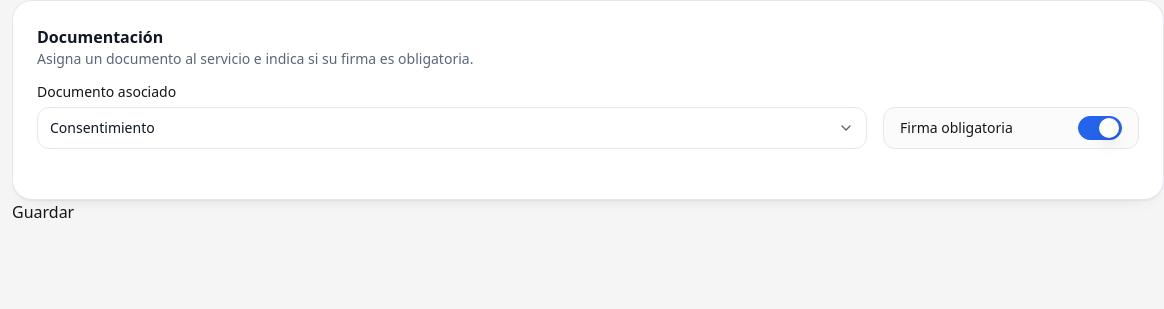
Test case: documentación de servicios › quitar el documento apaga la obligatoriedad
What coordinates should you click on to do the following:
click the dropdown
I would click on:
 (102, 128)
Its box is [37,107,867,149].
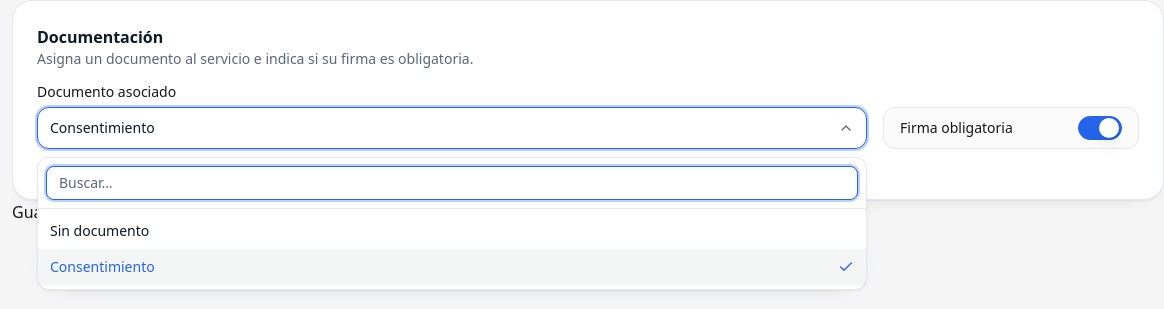
What coordinates should you click on to do the following:
click the option "Sin documento"
I would click on:
 (100, 230)
Its box is [50,221,149,240].
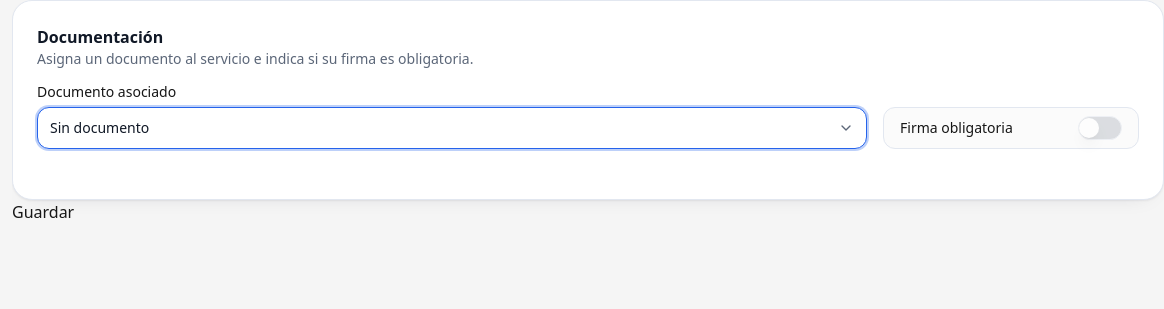
expect the switch is not checked: met, box [1078,116,1122,140]
expect the switch is disabled: met, box [1078,116,1122,140]
